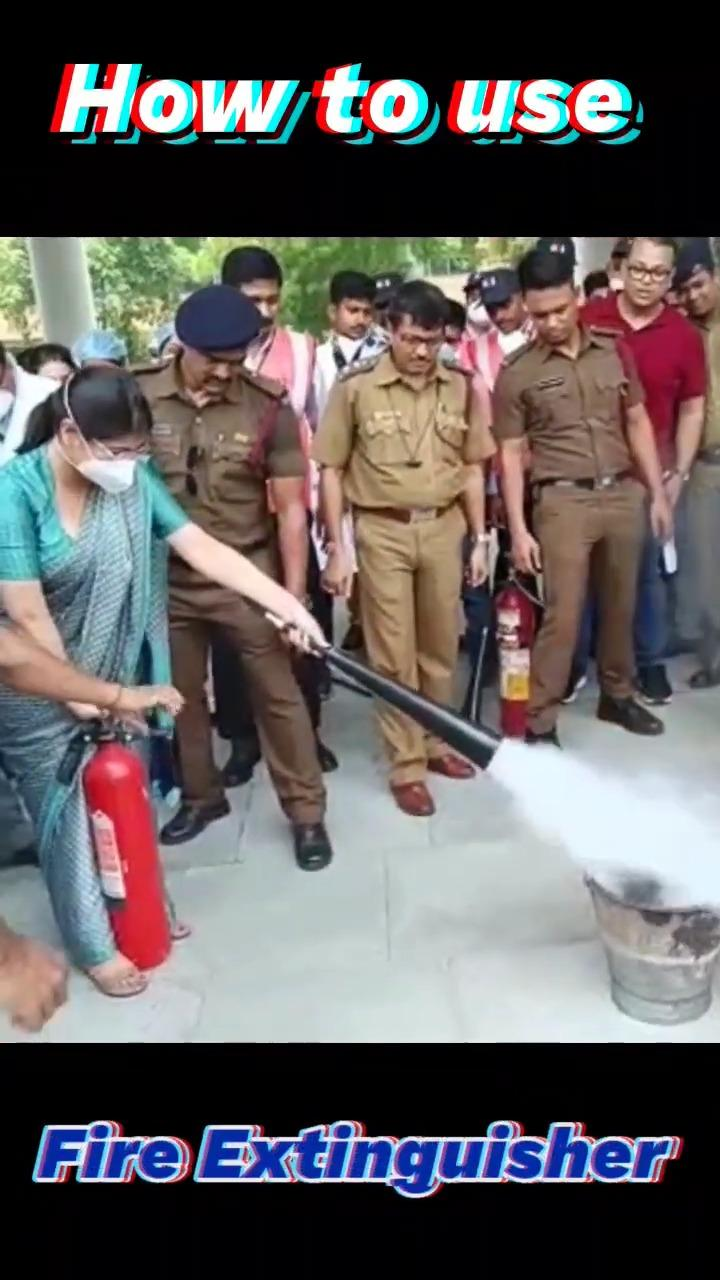FireExtinguisher: (80, 706, 180, 986), (476, 578, 547, 752)
not: (585, 233, 718, 514), (228, 263, 328, 545), (450, 293, 509, 460)
